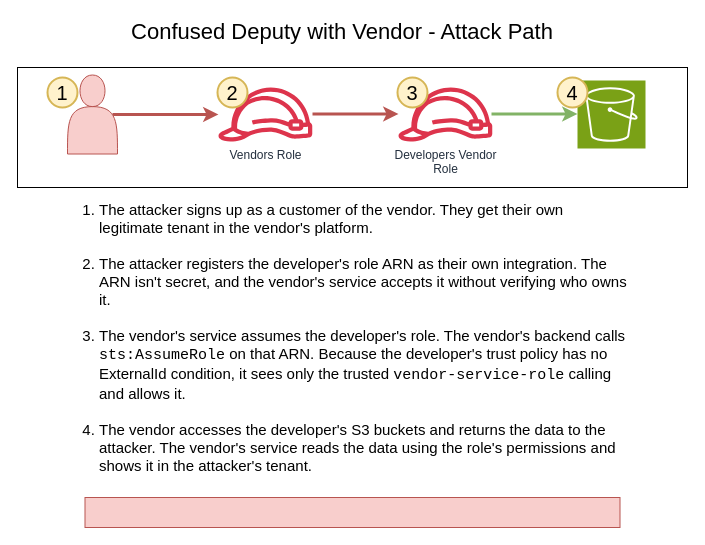
This 705x545 diagram has some shape labels left out. The centre of each missing label's shape, as x and y in pixels:
Attacker: point (92, 114)
Created By: Urban Austin Busch: point (352, 512)
Developers S3: point (611, 114)
